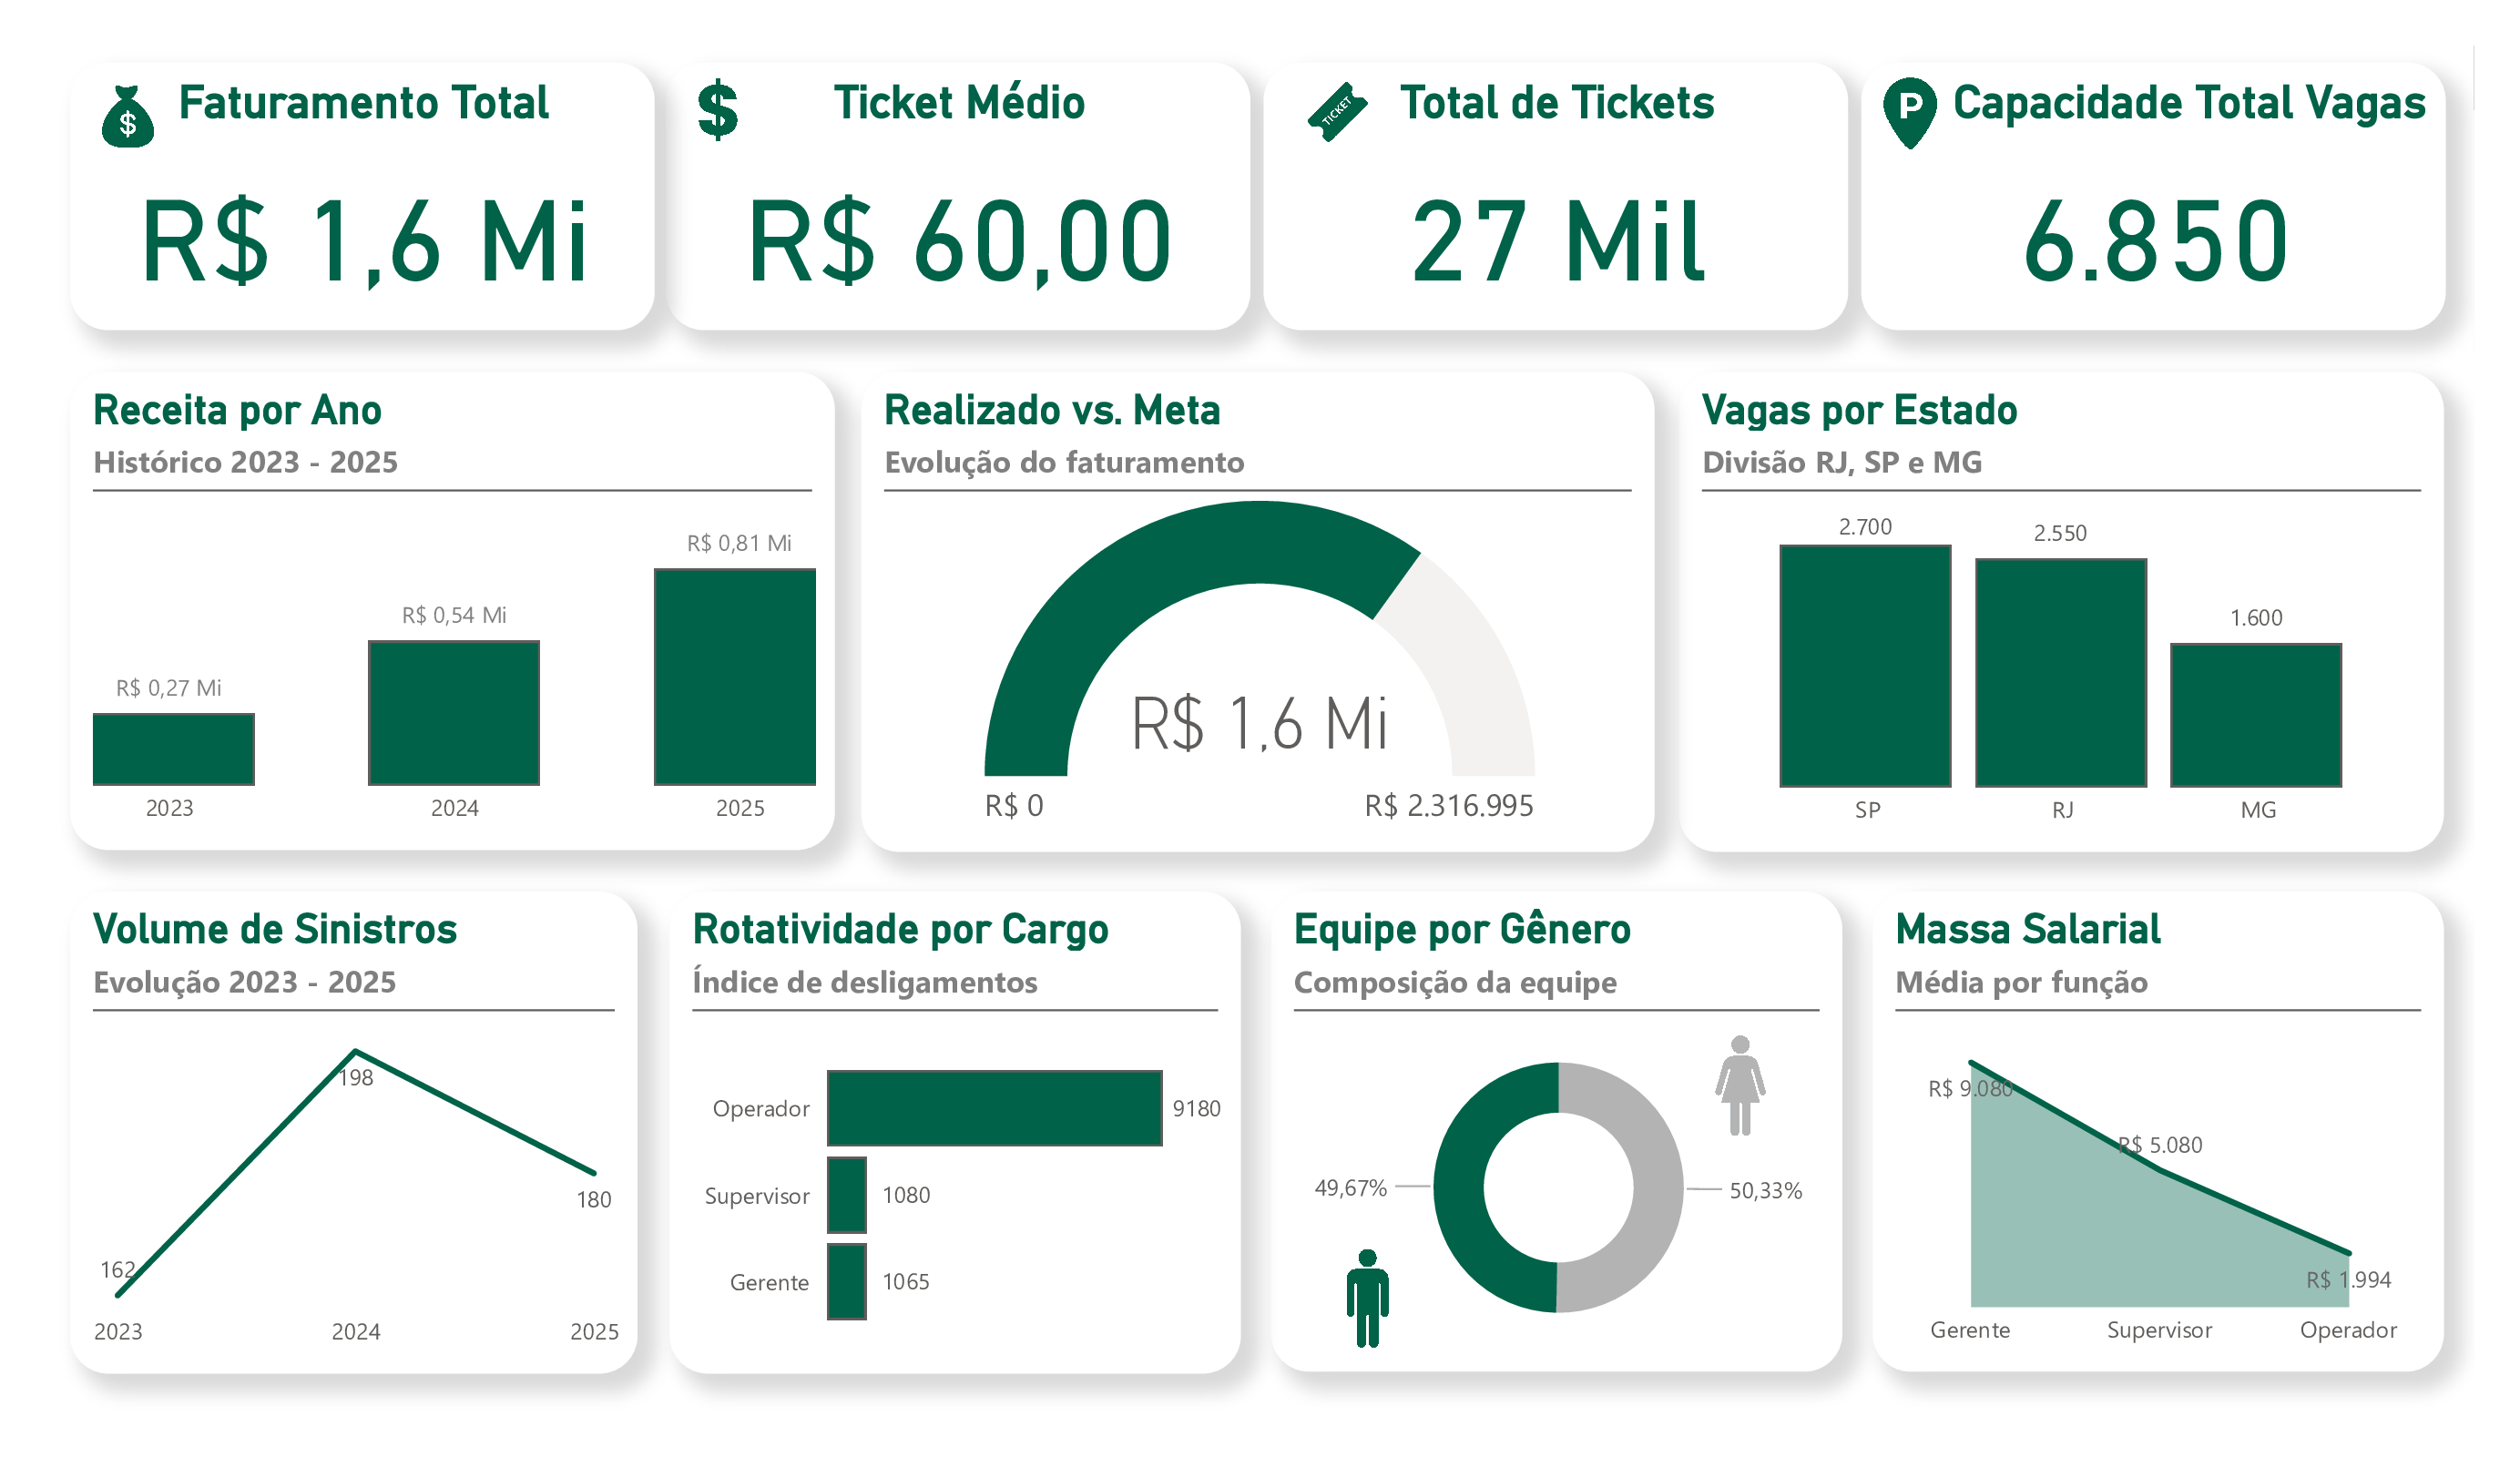

The page's visual inventory and layout, read from the dashboard file:
{"tool":"powerbi","page":{"name":"Página 1","canvas":[1280,720],"ordinal":0},"visuals":[{"type":"cardVisual","title":"Faturamento Total","fields":{"Data":["Sum(Dataset_3_tickets.valor)"]},"box":[12.6,9.2,308.2,141.1],"z":0,"group":"g2"},{"type":"cardVisual","title":"Ticket Médio","fields":{"Data":["Dataset_3_tickets.Ticket Médio (R$)"]},"box":[327.2,9.2,308.2,141.5],"z":0,"group":"g1"},{"type":"cardVisual","title":"Total de Tickets","fields":{"Data":["Dataset_3_tickets.Qtd Total de Veículos"]},"box":[641.9,9.2,308.2,141.5],"z":0,"group":"g3"},{"type":"cardVisual","title":"Capacidade Total Vagas","fields":{"Data":["Dataset_1_unidades.Capacidade Exibicao"]},"box":[956.6,9.2,308.2,141.5],"z":0,"group":"g4"},{"type":"gauge","title":"Realizado vs. Meta","fields":{"Y":["Sum(Dataset_3_tickets.valor)"],"TargetValue":["Sum(Dataset_5_metas.Meta_Faturamento)"],"MaxValue":["Dataset_5_metas.Meta_Proporcional"]},"box":[429.8,171.8,417.6,253.4],"z":0,"group":"g6"},{"type":"lineStackedColumnComboChart","title":"Receita por Ano","fields":{"Y":["Sum(Dataset_3_tickets.valor)"],"Category":["Dataset_3_tickets.ano"]},"box":[13,172.3,403.2,252],"z":0},{"type":"donutChart","title":"Equipe por Gênero","fields":{"Category":["Dataset_2_funcionarios.sexo"],"Y":["Sum(Dataset_2_funcionarios.id_funcionario)"]},"box":[646.1,446.4,301,253.4],"z":0,"group":"g5"},{"type":"areaChart","title":"Massa Salarial","fields":{"Category":["Dataset_2_funcionarios.cargo"],"Y":["Avg(Dataset_2_funcionarios.salario)"]},"box":[963.4,446.4,301,253.4],"z":0,"group":"g7"},{"type":"image","box":[18.4,16.4,49,43.2],"z":5,"group":"g2"},{"type":"image","box":[655.4,14.3,50.5,42.1],"z":8,"group":"g3"},{"type":"image","box":[956.7,10,50.5,50.5],"z":10,"group":"g4"},{"type":"group","id":"g1","title":"Grupo 1","box":[327.2,9.2,308.2,141.5],"z":1000},{"type":"image","box":[332.3,12.6,43.8,43.8],"z":1000,"group":"g1"},{"type":"image","box":[857,516.7,73.4,63.4],"z":1000,"group":"g5"},{"type":"group","id":"g2","title":"Grupo 2","box":[12.6,9.2,308.2,141.1],"z":2000},{"type":"image","box":[651,629,90.7,63.4],"z":2000,"group":"g5"},{"type":"group","id":"g3","title":"Grupo 3","box":[641.9,9.2,308.2,141.5],"z":3000},{"type":"group","id":"g4","title":"Grupo 4","box":[956.6,9.2,308.2,141.5],"z":4000},{"type":"columnChart","title":"Vagas por Estado","fields":{"Category":["Dataset_1_unidades.estado"],"Y":["Dataset_1_unidades.Capacidade Total Garagens"]},"box":[861.1,171.8,403.2,253.4],"z":5000},{"type":"lineChart","title":"Volume de Sinistros","fields":{"Category":["Dataset_4_sinistros.data_hora.Variation.Hierarquia de datas.Ano"],"Y":["CountNonNull(Dataset_4_sinistros.id_ticket)"]},"box":[13,446.4,299.5,253.4],"z":6000},{"type":"group","id":"g5","title":"Grupo 5","box":[646.1,446.4,301,253.4],"z":7000},{"type":"group","id":"g6","title":"Grupo 5","box":[429.8,171.8,417.6,253.4],"z":8000},{"type":"clusteredBarChart","title":"Rotatividade por Cargo","fields":{"Category":["Dataset_2_funcionarios.cargo"],"Y":["Sum(Dataset_2_funcionarios.id_funcionario)"]},"box":[328.8,446.4,301,253.4],"z":9000},{"type":"group","id":"g7","title":"Grupo 5","box":[963.4,446.4,301,253.4],"z":10000}]}

Visuals, with their boxes on the page's 1280x720 design canvas (x1, y1, x2, y2). These are canvas units, not pixel positions in the 2520x1457 screenshot, which may show the page scaled, cropped or inside an application window:
"Faturamento Total" cardVisual: x1=13 y1=9 x2=321 y2=150
"Ticket Médio" cardVisual: x1=327 y1=9 x2=635 y2=151
"Total de Tickets" cardVisual: x1=642 y1=9 x2=950 y2=151
"Capacidade Total Vagas" cardVisual: x1=957 y1=9 x2=1265 y2=151
"Realizado vs. Meta" gauge: x1=430 y1=172 x2=847 y2=425
"Receita por Ano" lineStackedColumnComboChart: x1=13 y1=172 x2=416 y2=424
"Equipe por Gênero" donutChart: x1=646 y1=446 x2=947 y2=700
"Massa Salarial" areaChart: x1=963 y1=446 x2=1264 y2=700
image: x1=18 y1=16 x2=67 y2=60
image: x1=655 y1=14 x2=706 y2=56
image: x1=957 y1=10 x2=1007 y2=60
"Grupo 1" group: x1=327 y1=9 x2=635 y2=151
image: x1=332 y1=13 x2=376 y2=56
image: x1=857 y1=517 x2=930 y2=580
"Grupo 2" group: x1=13 y1=9 x2=321 y2=150
image: x1=651 y1=629 x2=742 y2=692
"Grupo 3" group: x1=642 y1=9 x2=950 y2=151
"Grupo 4" group: x1=957 y1=9 x2=1265 y2=151
"Vagas por Estado" columnChart: x1=861 y1=172 x2=1264 y2=425
"Volume de Sinistros" lineChart: x1=13 y1=446 x2=312 y2=700
"Grupo 5" group: x1=646 y1=446 x2=947 y2=700
"Grupo 5" group: x1=430 y1=172 x2=847 y2=425
"Rotatividade por Cargo" clusteredBarChart: x1=329 y1=446 x2=630 y2=700
"Grupo 5" group: x1=963 y1=446 x2=1264 y2=700
